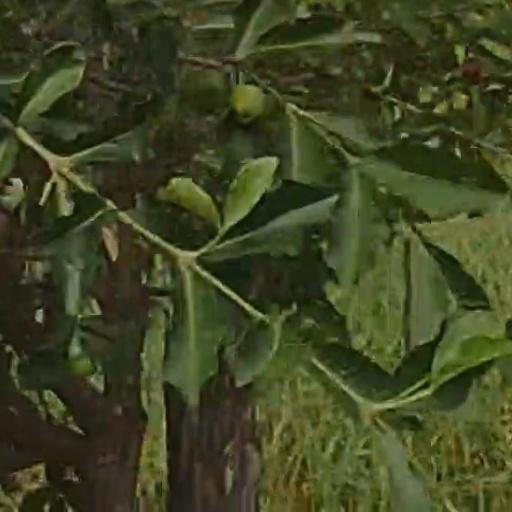acerola_verde: (233, 86, 264, 125)
